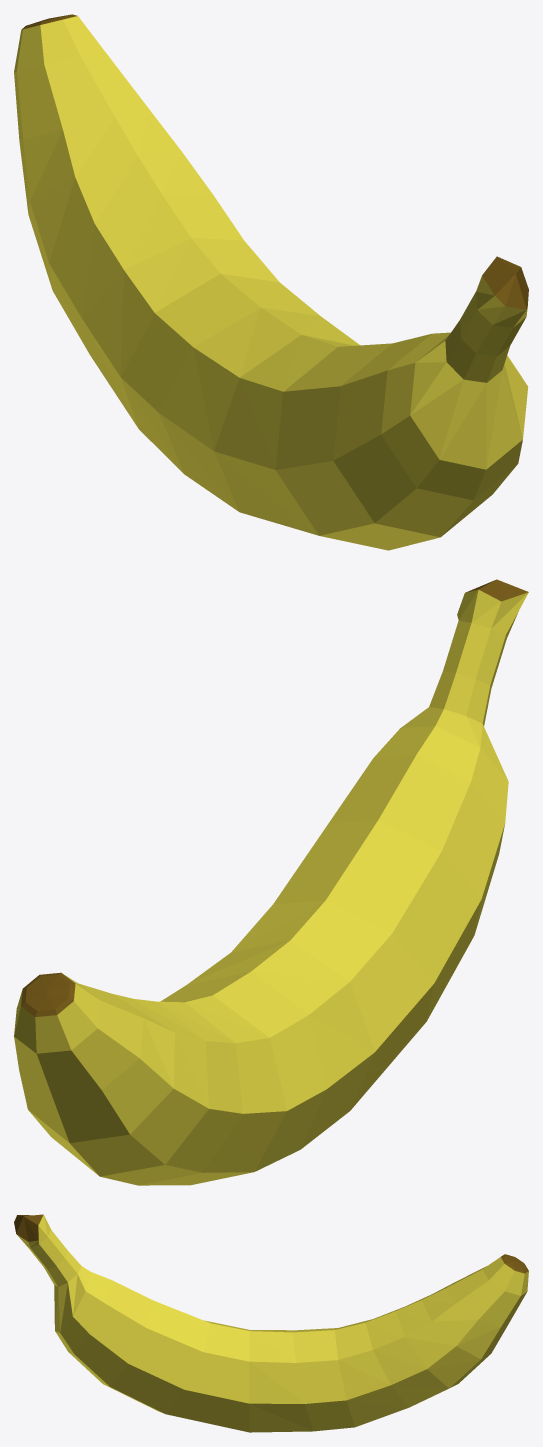
The model's file is banana.gltf.
3 views of the same model, one above another, from view 1: azimuth 30°, elevation 25°; view 2: azimuth 150°, elevation 25°; view 3: azimuth 270°, elevation 25° (orthographic). The views are drawn at different scales.
Visible parts, largest first — view 1: Cylinder, Cylinder_1; view 2: Cylinder, Cylinder_2; view 3: Cylinder, Cylinder_1, Cylinder_2.
Boxes of the visible parts, x1=… form: Cylinder: x1=14, y1=16, x2=528, y2=550; Cylinder_1: x1=482, y1=256, x2=528, y2=309; Cylinder: x1=14, y1=589, x2=528, y2=1185; Cylinder_2: x1=21, y1=972, x2=75, y2=1016; Cylinder: x1=17, y1=1215, x2=528, y2=1432; Cylinder_1: x1=14, y1=1214, x2=43, y2=1241; Cylinder_2: x1=501, y1=1254, x2=528, y2=1273.
Size of the model in its own units: 0.1706 by 0.3725 by 0.8018.
